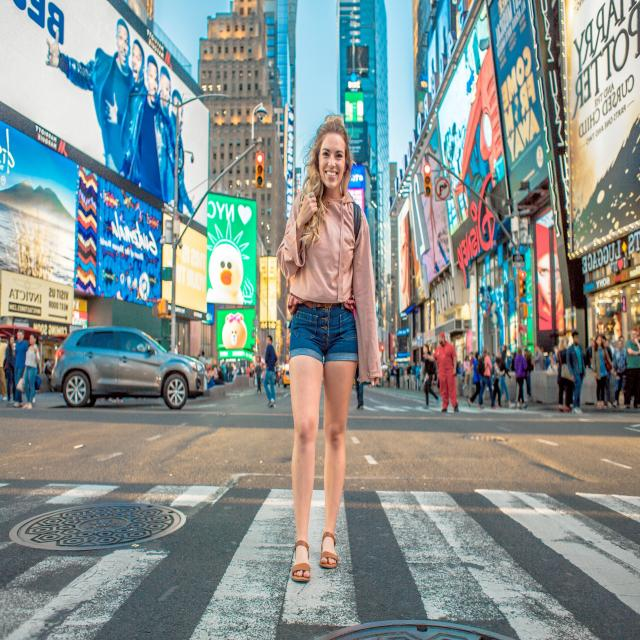adult: (282, 122, 379, 584)
